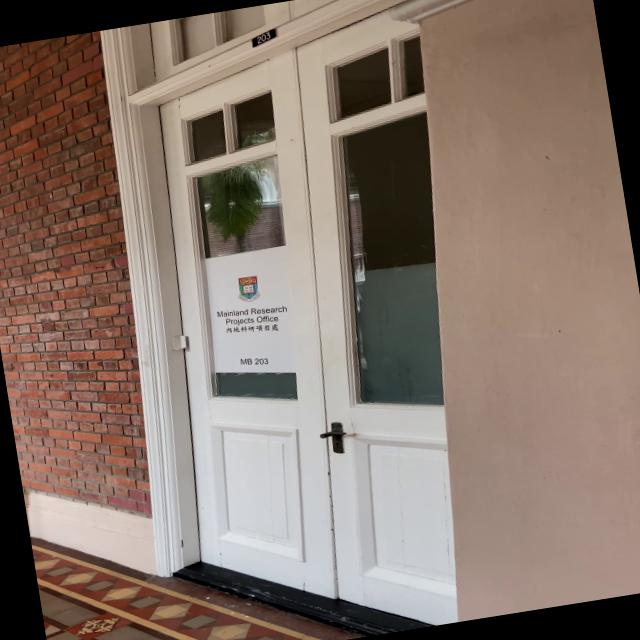room203: (250, 26, 278, 49)
room203Window: (230, 350, 274, 373)
